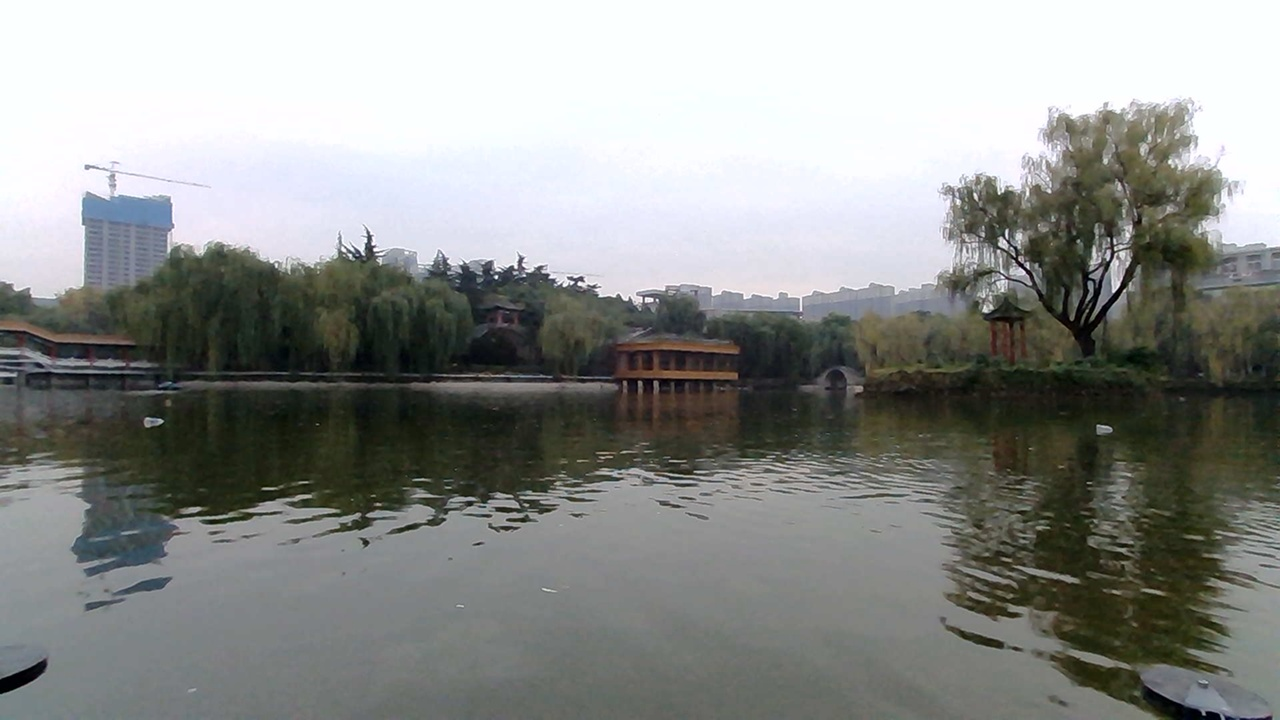bottle: (1087, 412, 1133, 446), (133, 406, 178, 430)
